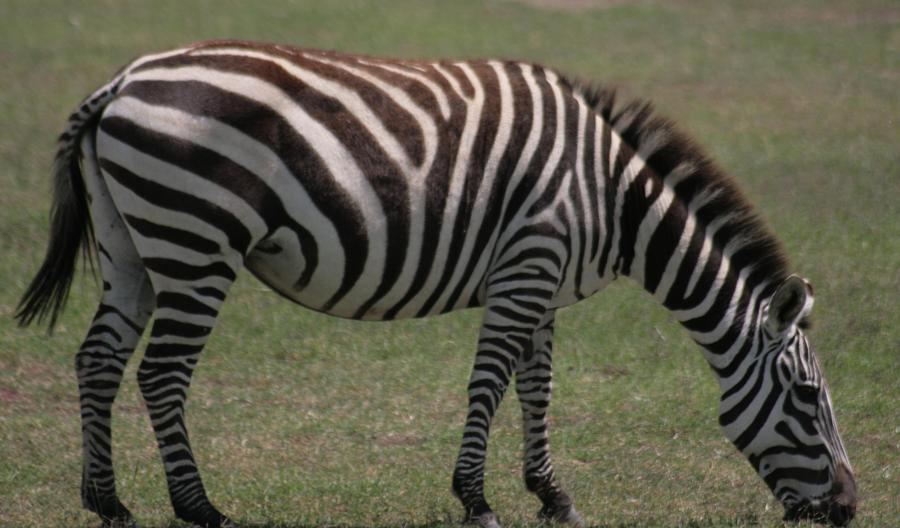zebra_plains: (122, 45, 587, 295)
